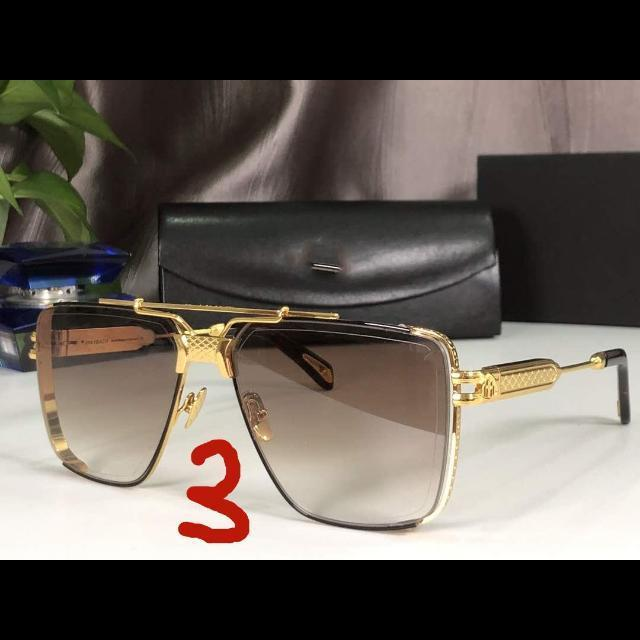glasses: (24, 283, 628, 529)
